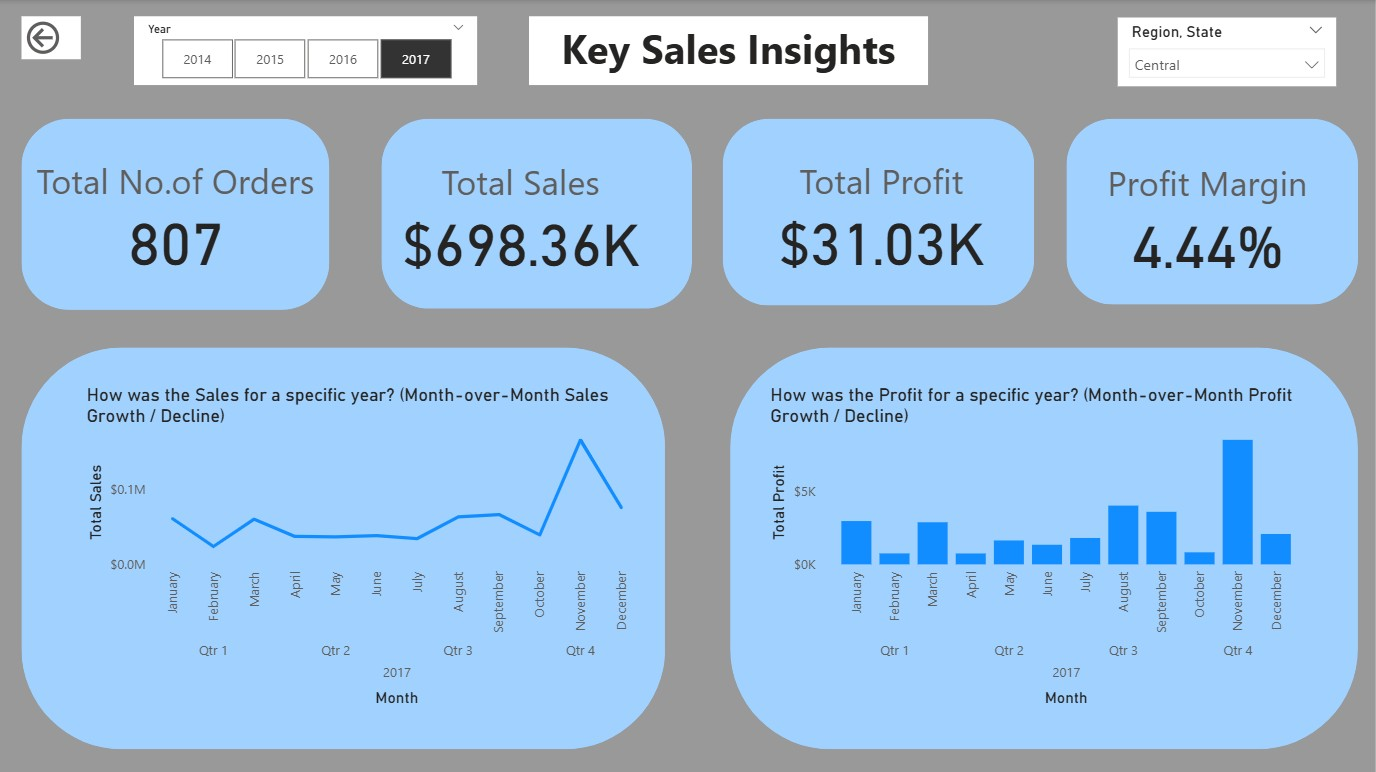

The page's visual inventory and layout, read from the dashboard file:
{"tool":"powerbi","page":{"name":"Key Sales Insight","canvas":[1280,720],"ordinal":1},"visuals":[{"type":"shape","box":[992.7,111,271.2,172.8],"z":0,"group":"g2"},{"type":"shape","box":[680,323.8,583.8,373.8],"z":0},{"type":"shape","box":[673.6,111,289.8,173.8],"z":1000,"group":"g1"},{"type":"shape","box":[21.2,323.8,598.8,373.8],"z":1000},{"type":"lineChart","title":"How was the Sales Trend?","fields":{"Y":["_All Measures.Total Sales"],"Category":["Date Table (Order Date).Date.Variation.Date Hierarchy.Year","Date Table (Order Date).Date.Variation.Date Hierarchy.Quarter","Date Table (Order Date).Date.Variation.Date Hierarchy.Month"]},"box":[76.2,357.5,522.5,305],"z":2000},{"type":"columnChart","title":"How was the Profit Trend?","fields":{"Category":["Date Table (Order Date).Date.Variation.Date Hierarchy.Year","Date Table (Order Date).Date.Variation.Date Hierarchy.Quarter","Date Table (Order Date).Date.Variation.Date Hierarchy.Month"],"Y":["_All Measures.Total Profit"]},"box":[712.5,357.5,508.8,305],"z":3000},{"type":"shape","box":[21.4,111,286.3,177.8],"z":4000,"group":"g4"},{"type":"shape","box":[356.3,111,288.8,176.6],"z":4000,"group":"g3"},{"type":"group","id":"g1","title":"Group 2","box":[673.6,111,290.1,172.8],"z":4000},{"type":"cardVisual","fields":{"Data":["_All Measures.Total Profit"]},"box":[691.6,129.4,258.2,139.9],"z":4000,"group":"g1"},{"type":"group","id":"g2","title":"Group 3","box":[992.7,111,271.2,172.8],"z":5000},{"type":"cardVisual","fields":{"Data":["_All Measures.Profit Margin"]},"box":[1003.9,131.6,239.6,136.5],"z":5000,"group":"g2"},{"type":"group","id":"g3","title":"Group 1","box":[341.8,111,302.7,176.6],"z":6000},{"type":"cardVisual","fields":{"Data":["_All Measures.Total No.of  Orders"]},"box":[16.4,129.9,296.4,142.5],"z":6000,"group":"g4"},{"type":"cardVisual","fields":{"Data":["_All Measures.Total Sales"]},"box":[341.8,131,288,142],"z":6000,"group":"g3"},{"type":"textbox","box":[493.2,15.1,370.8,64.3],"z":7000},{"type":"actionButton","box":[21.1,15.6,55.6,40],"z":8000},{"type":"slicer","fields":{"Values":["Customer Table.Region","Customer Table.State"]},"box":[1040.6,16.4,203.1,64.3],"z":9000},{"type":"slicer","fields":{"Values":["Date Table (Order Date).Year"]},"box":[126.1,15.1,319.1,64.3],"z":10000},{"type":"group","id":"g4","title":"Group 4","box":[16.4,111,296.4,177.8],"z":11000}]}

Visuals, with their boxes in screenshot pixels (x1, y1, x2, y2), scaled from the page's 1280x720 canvas onto the 1376x772 screenshot:
shape: 1067:119:1359:304
shape: 731:347:1359:748
shape: 724:119:1036:305
shape: 23:347:666:748
"How was the Sales Trend?" lineChart: 82:383:644:710
"How was the Profit Trend?" columnChart: 766:383:1313:710
shape: 23:119:331:310
shape: 383:119:693:308
"Group 2" group: 724:119:1036:304
cardVisual - _All Measures.Total Profit: 743:139:1021:289
"Group 3" group: 1067:119:1359:304
cardVisual - _All Measures.Profit Margin: 1079:141:1337:287
"Group 1" group: 367:119:693:308
cardVisual - _All Measures.Total No.of  Orders: 18:139:336:292
cardVisual - _All Measures.Total Sales: 367:140:677:293
textbox: 530:16:929:85
actionButton: 23:17:82:60
slicer - Customer Table.Region x Customer Table.State: 1119:18:1337:87
slicer - Date Table (Order Date).Year: 136:16:479:85
"Group 4" group: 18:119:336:310
